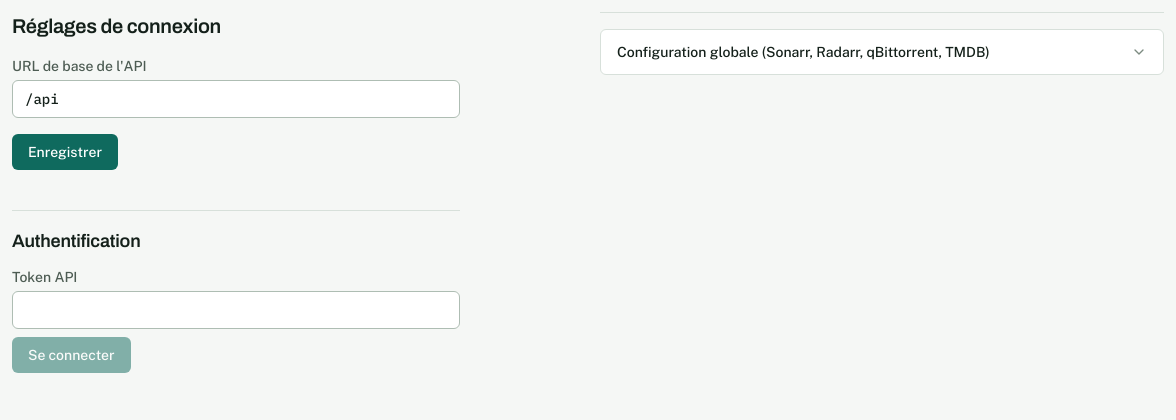
Test case: SettingsPage - connexion par token › token invalide : message d'erreur affiche, formulaire de connexion toujours visible
Type "mauvais-token" into the password field labelled "Token API" at [236, 310], box [12, 291, 460, 329]
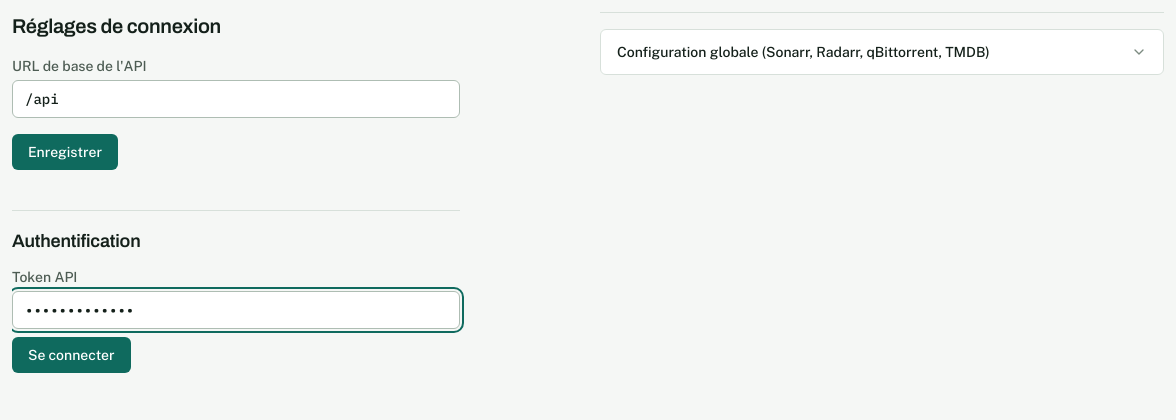
Click the button "Se connecter" at [71, 355], box [12, 337, 130, 373]
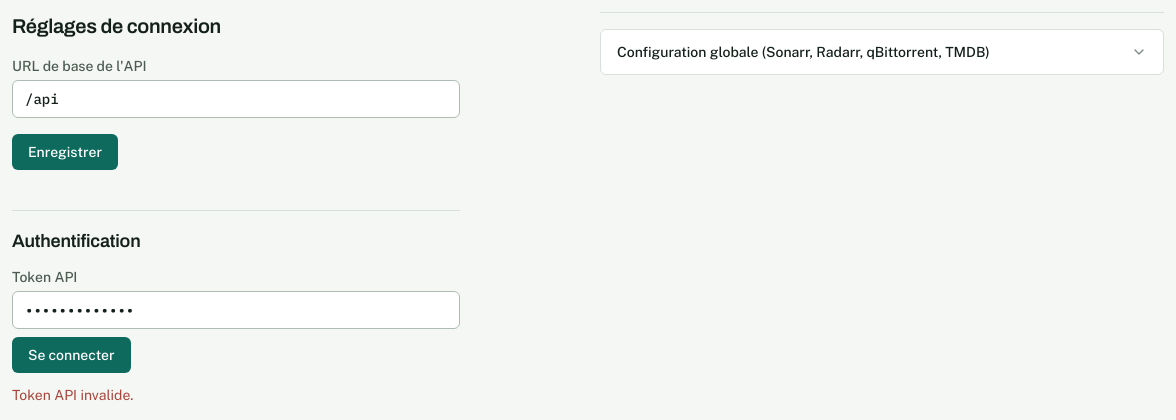
Result: the text "Token API invalide." is shown at [12, 387, 134, 403]
